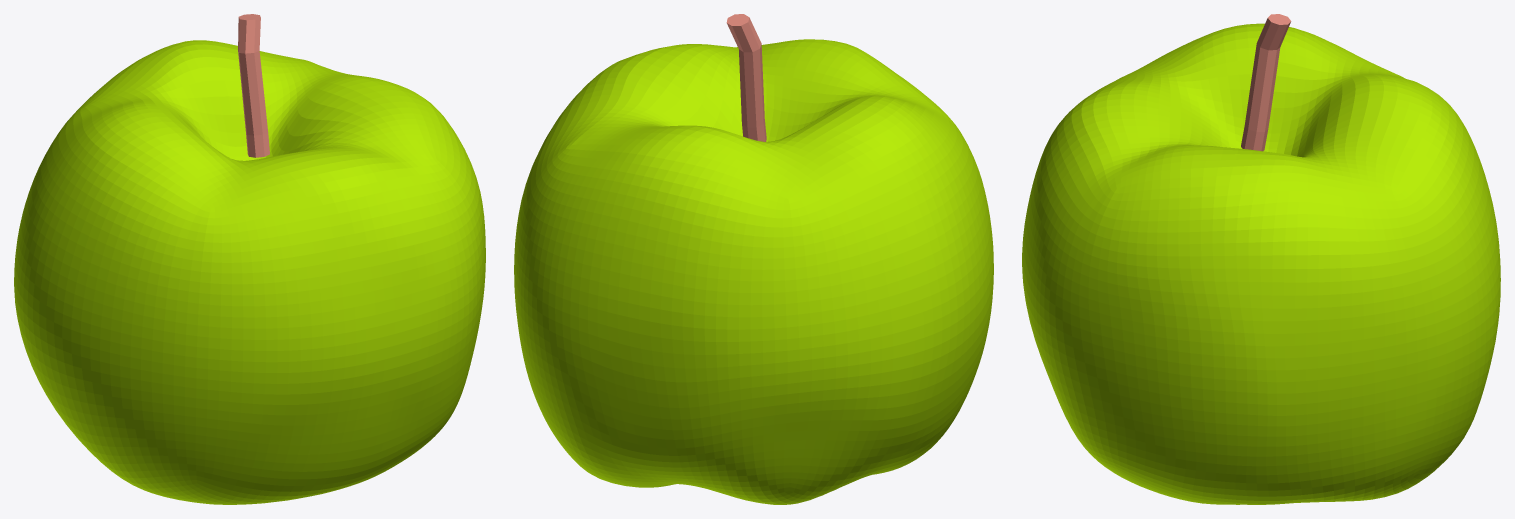
File: apple.fbx
3 renders of one model, left to right at view 1: azimuth 30°, elevation 25°; view 2: azimuth 150°, elevation 25°; view 3: azimuth 270°, elevation 25°, orthographic. The views are drawn at different scales.
Visible parts, largest first — view 1: apple; view 2: apple; view 3: apple.
Boxes of the visible parts, bbox=[...] form: apple: bbox=[14, 14, 485, 504]; apple: bbox=[514, 14, 993, 504]; apple: bbox=[1022, 14, 1500, 504].
Bounding box in the file's own units: 79.22 × 79.14 × 77.31.
